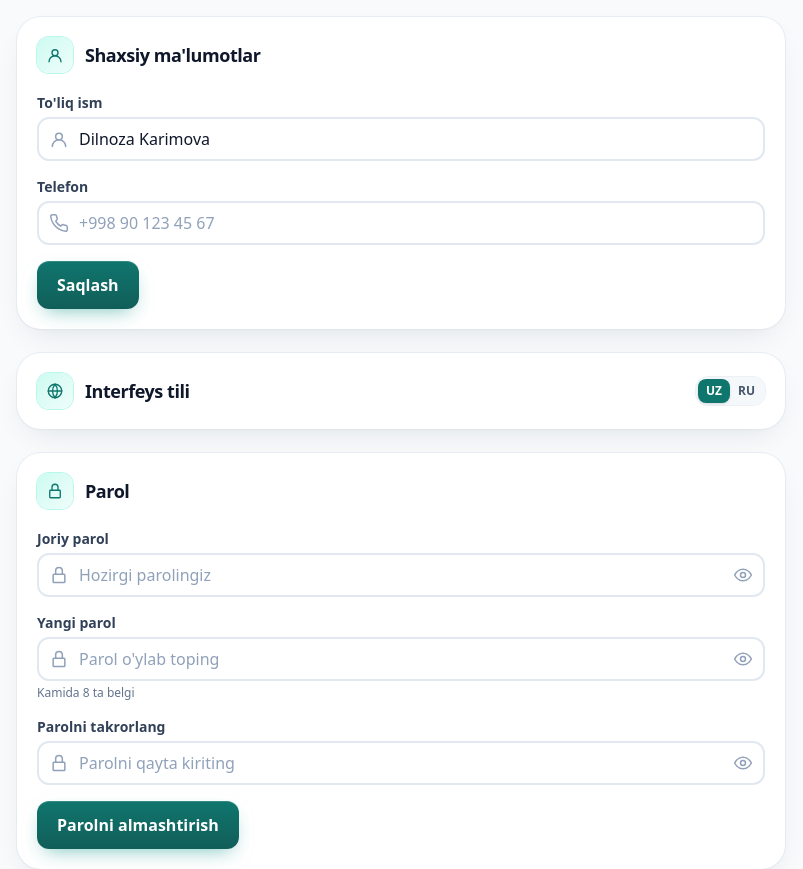
yangi parol 8 belgidan kam bo'lsa xato ko'rsatiladi va so'rov yuborilmaydi
(page scrolled)
In the password field labelled "Joriy parol": [401, 575] box [37, 553, 765, 597], type "eski-parol-123"
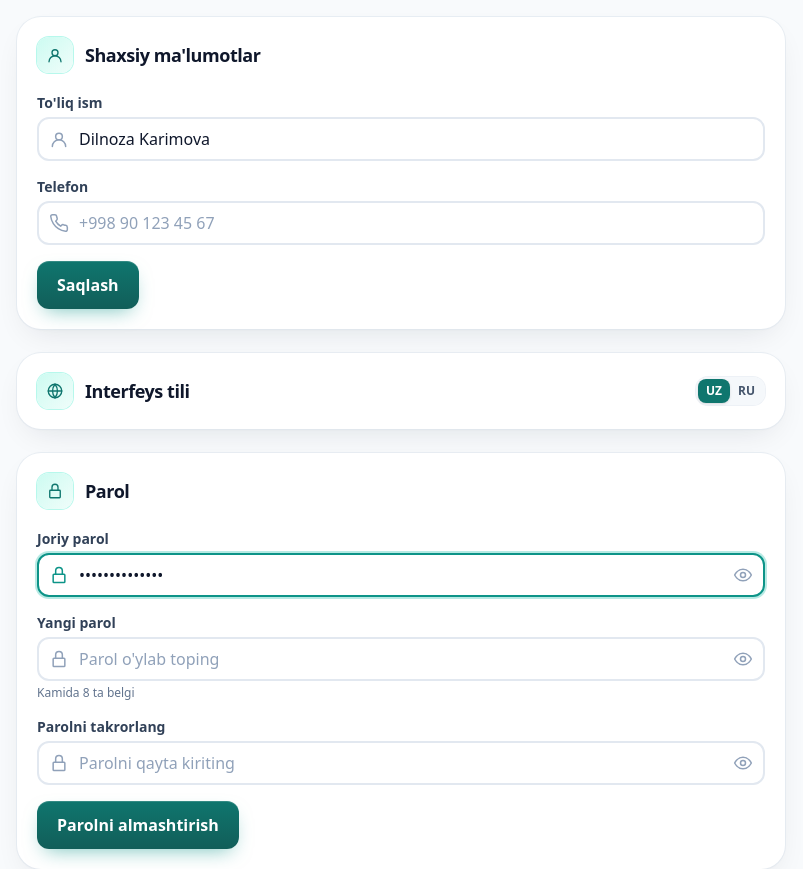
In the password field labelled "Yangi parol": [401, 659] box [37, 637, 765, 681], type "qisqa"
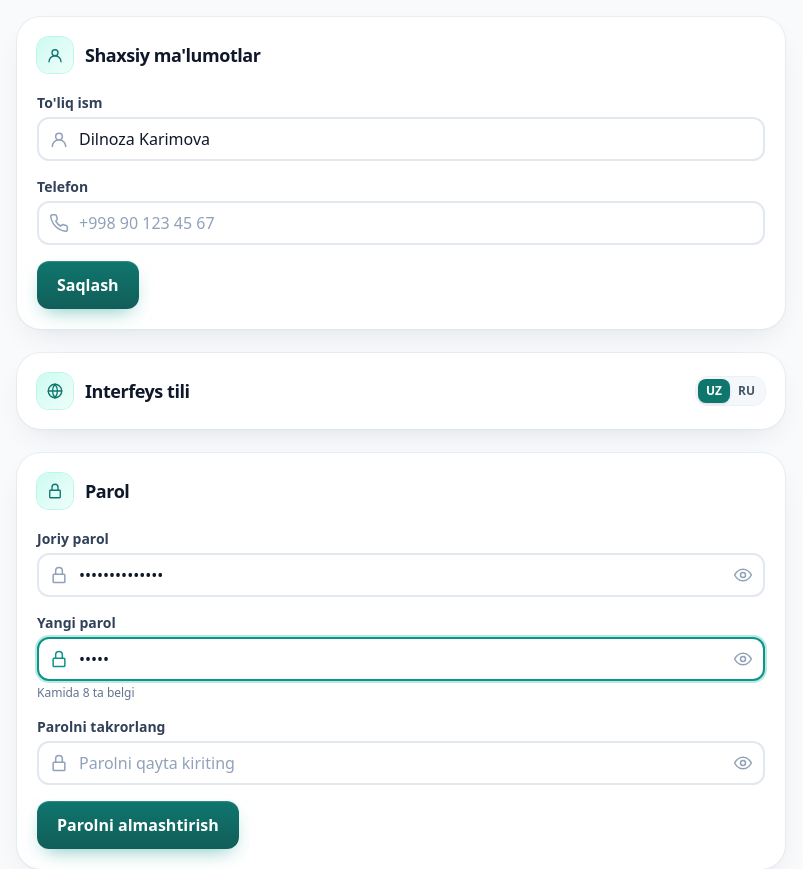
In the password field labelled "Parolni takrorlang": [401, 763] box [37, 741, 765, 785], type "qisqa"
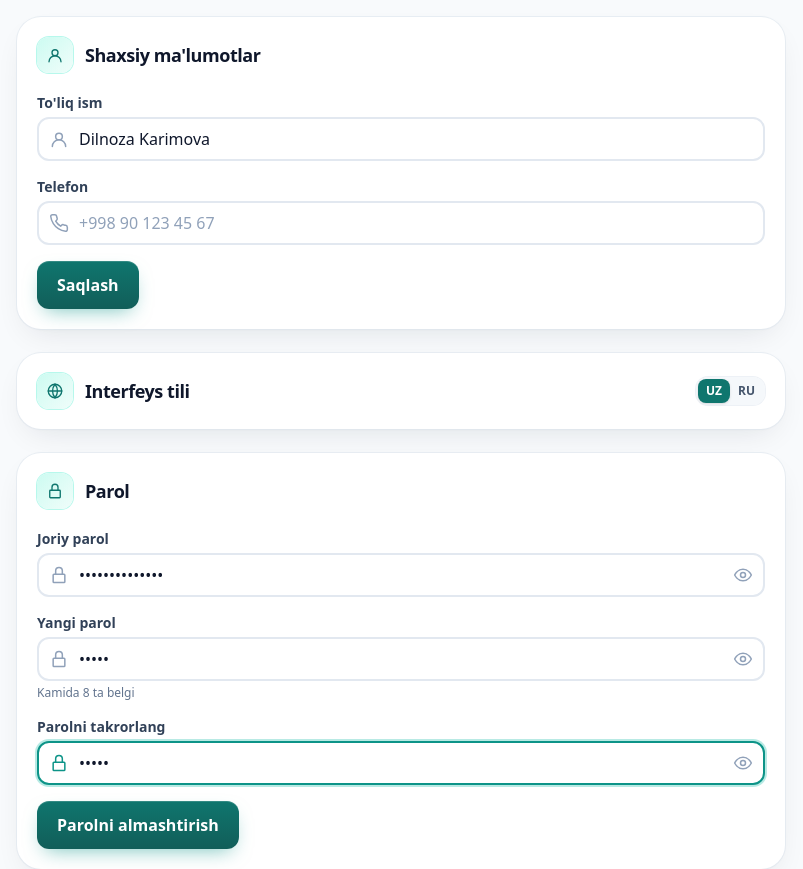
Click the button "Parolni almashtirish": [138, 825] box [37, 801, 239, 849]
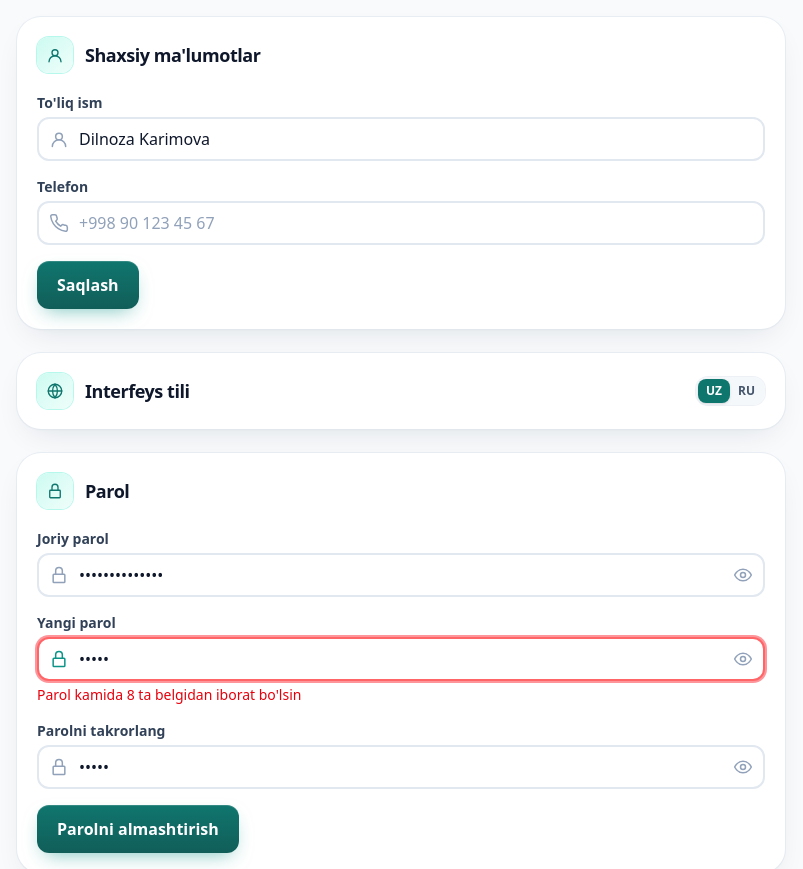
Expected: the text "Parol kamida 8 ta belgidan iborat bo'lsin" is shown, [37, 685, 301, 704]
